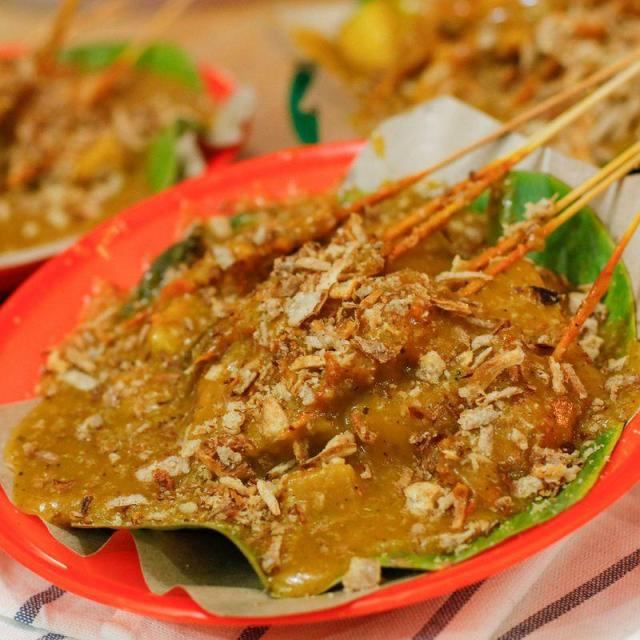Sate: (110, 83, 640, 574)
